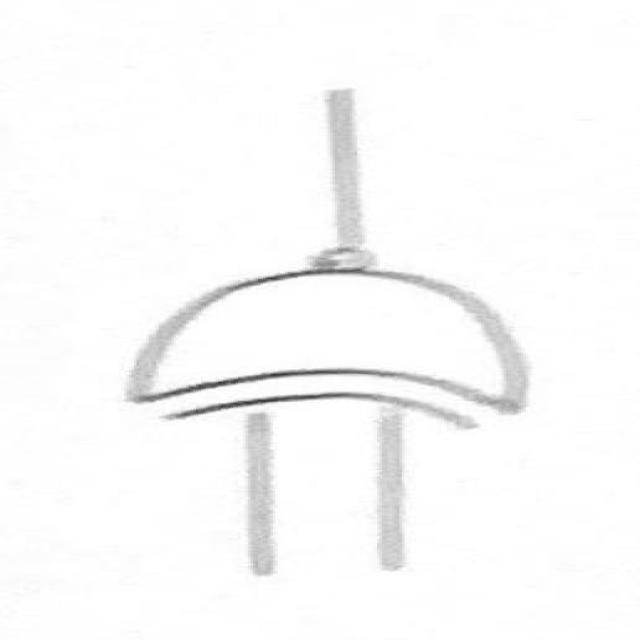XNOR: (58, 241, 590, 440)
